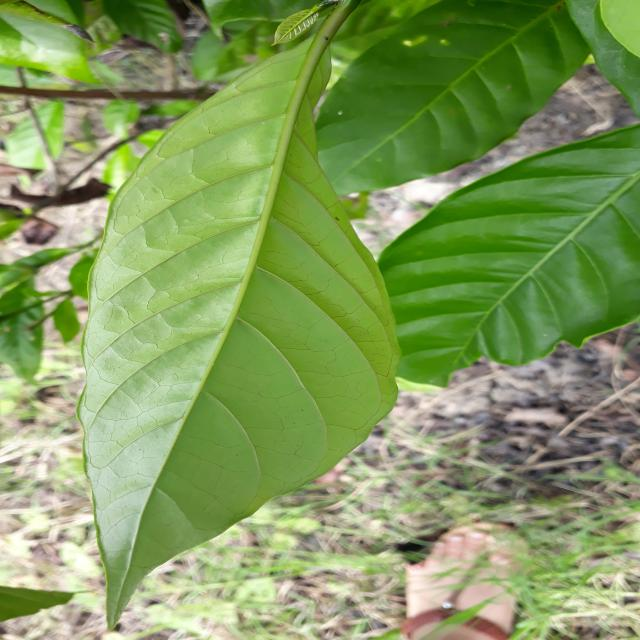Sanas: (79, 0, 400, 633)
